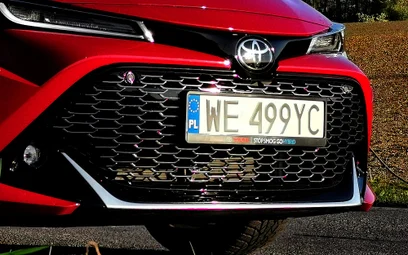number_plate: (187, 92, 327, 147)
